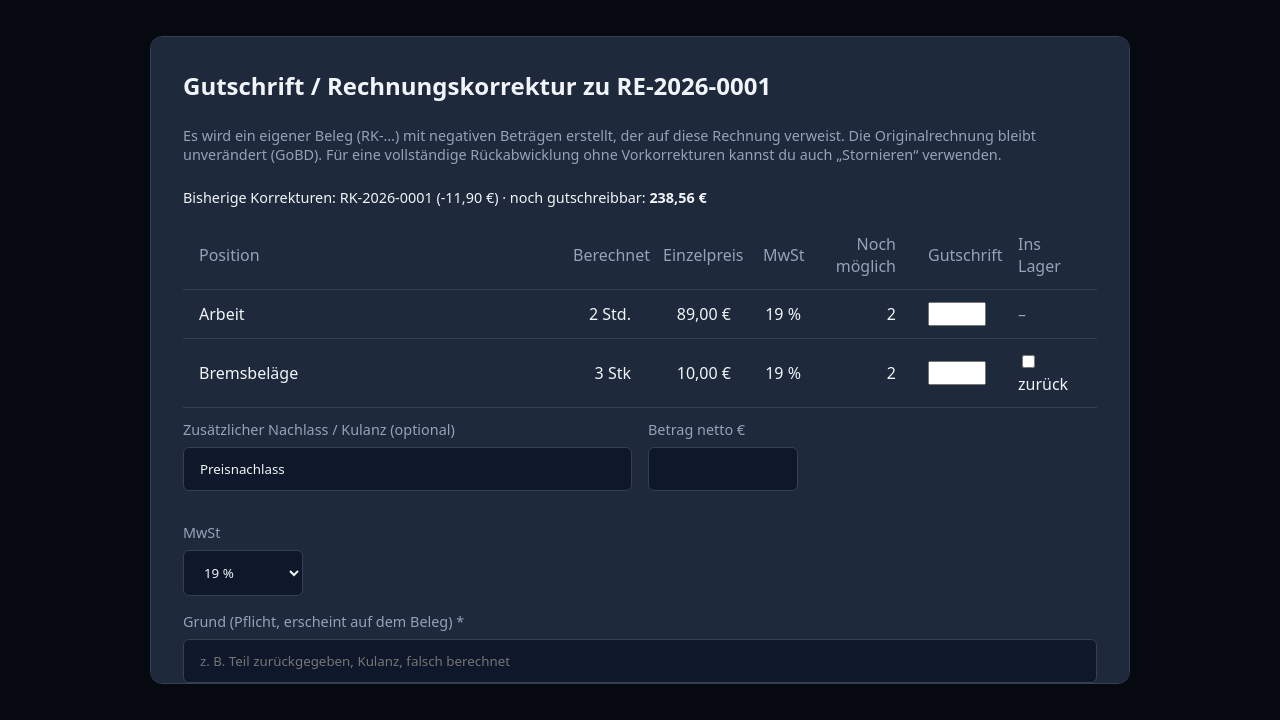
Rechnungskorrektur-Dialog › Lagerrücknahme nur mit ganzen Stück
Expected: the text "Bremsbeläge" is shown, x1=183 y1=339 x2=557 y2=408
Step 1. Type "1,5" into the field named "Gutschrift Menge Position 2" → (957, 373), box x1=928 y1=361 x2=986 y2=385
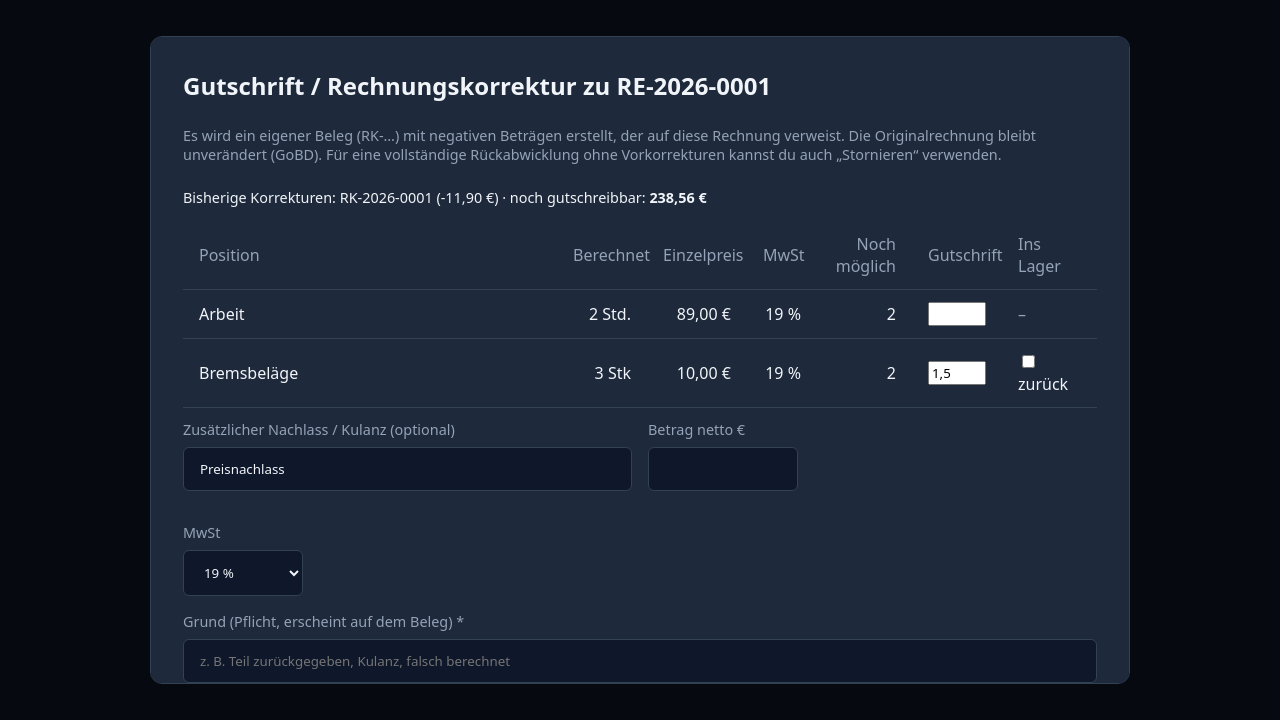
Step 2. Click the checkbox named "Ins Lager Position 2" → (1028, 362), box x1=1022 y1=355 x2=1035 y2=368
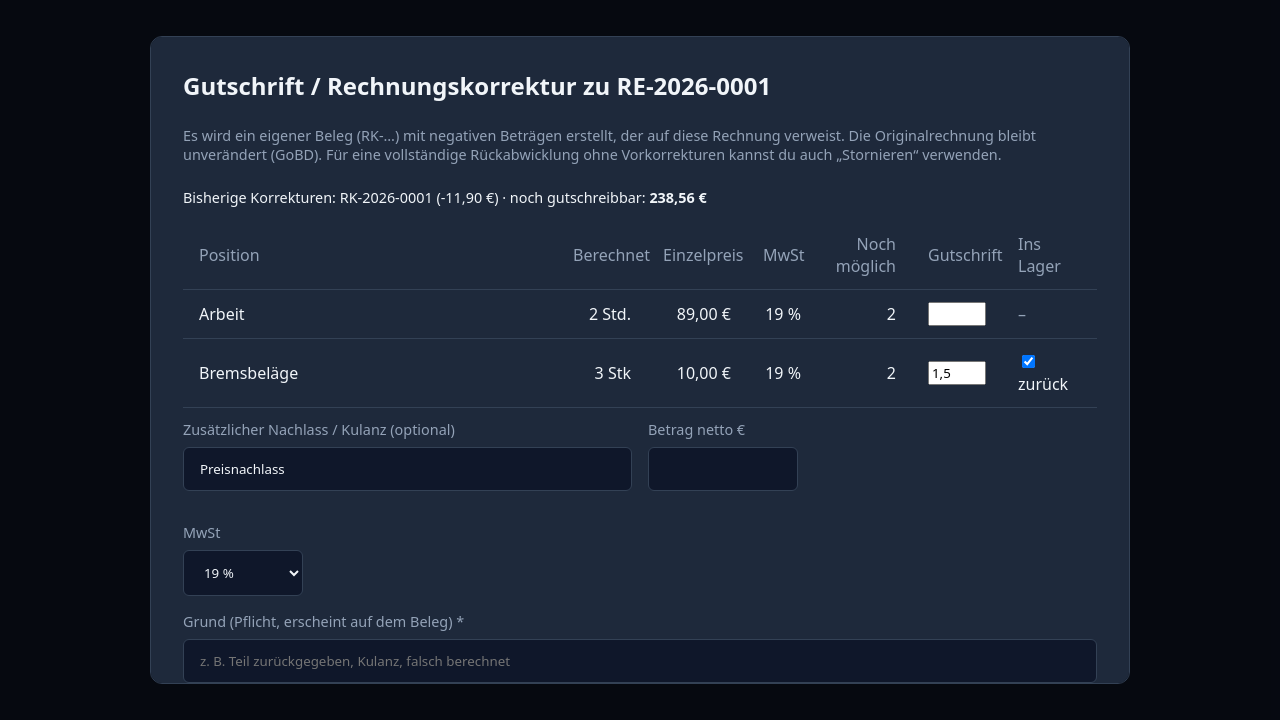
Step 3. Type "Rückgabe" into the field labelled "Grund (Pflicht, erscheint auf dem Beleg) *" → (640, 661), box x1=183 y1=639 x2=1097 y2=683
(page scrolled)
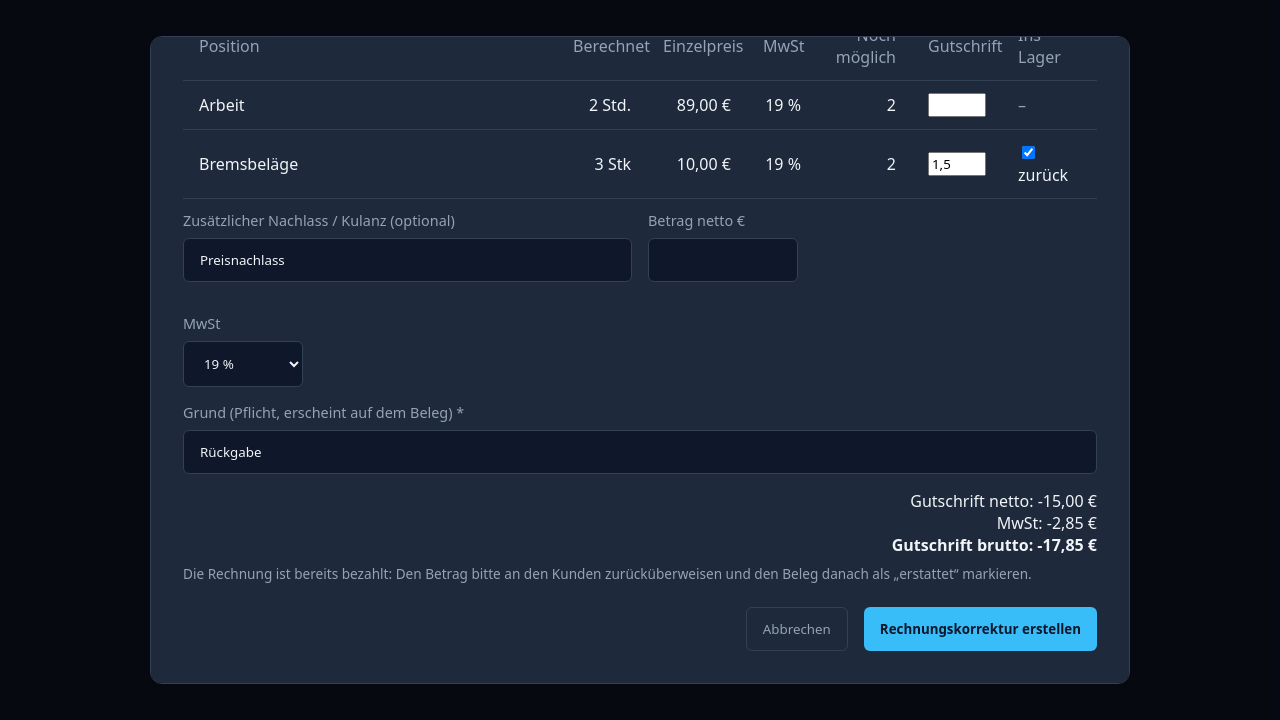
Step 4. Click the button "Rechnungskorrektur erstellen" → (980, 629), box x1=864 y1=607 x2=1097 y2=651
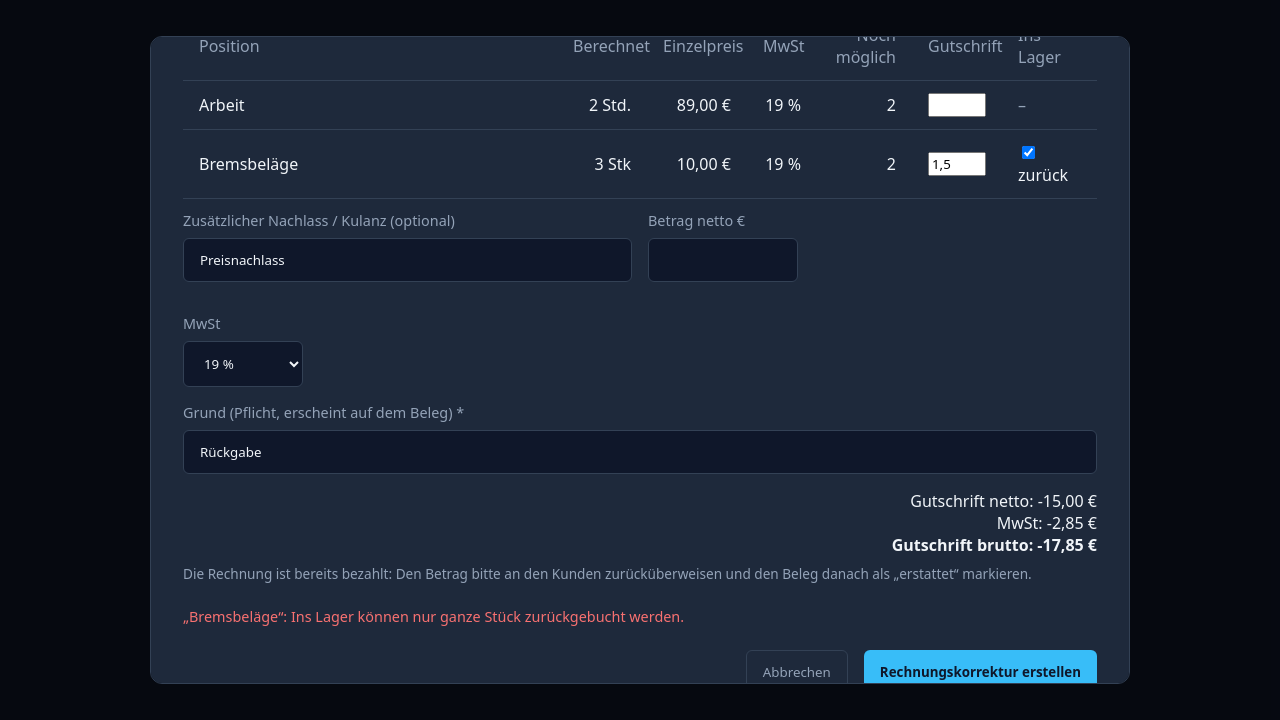
Now the text "nur ganze Stück" is shown, box x1=183 y1=607 x2=684 y2=626
